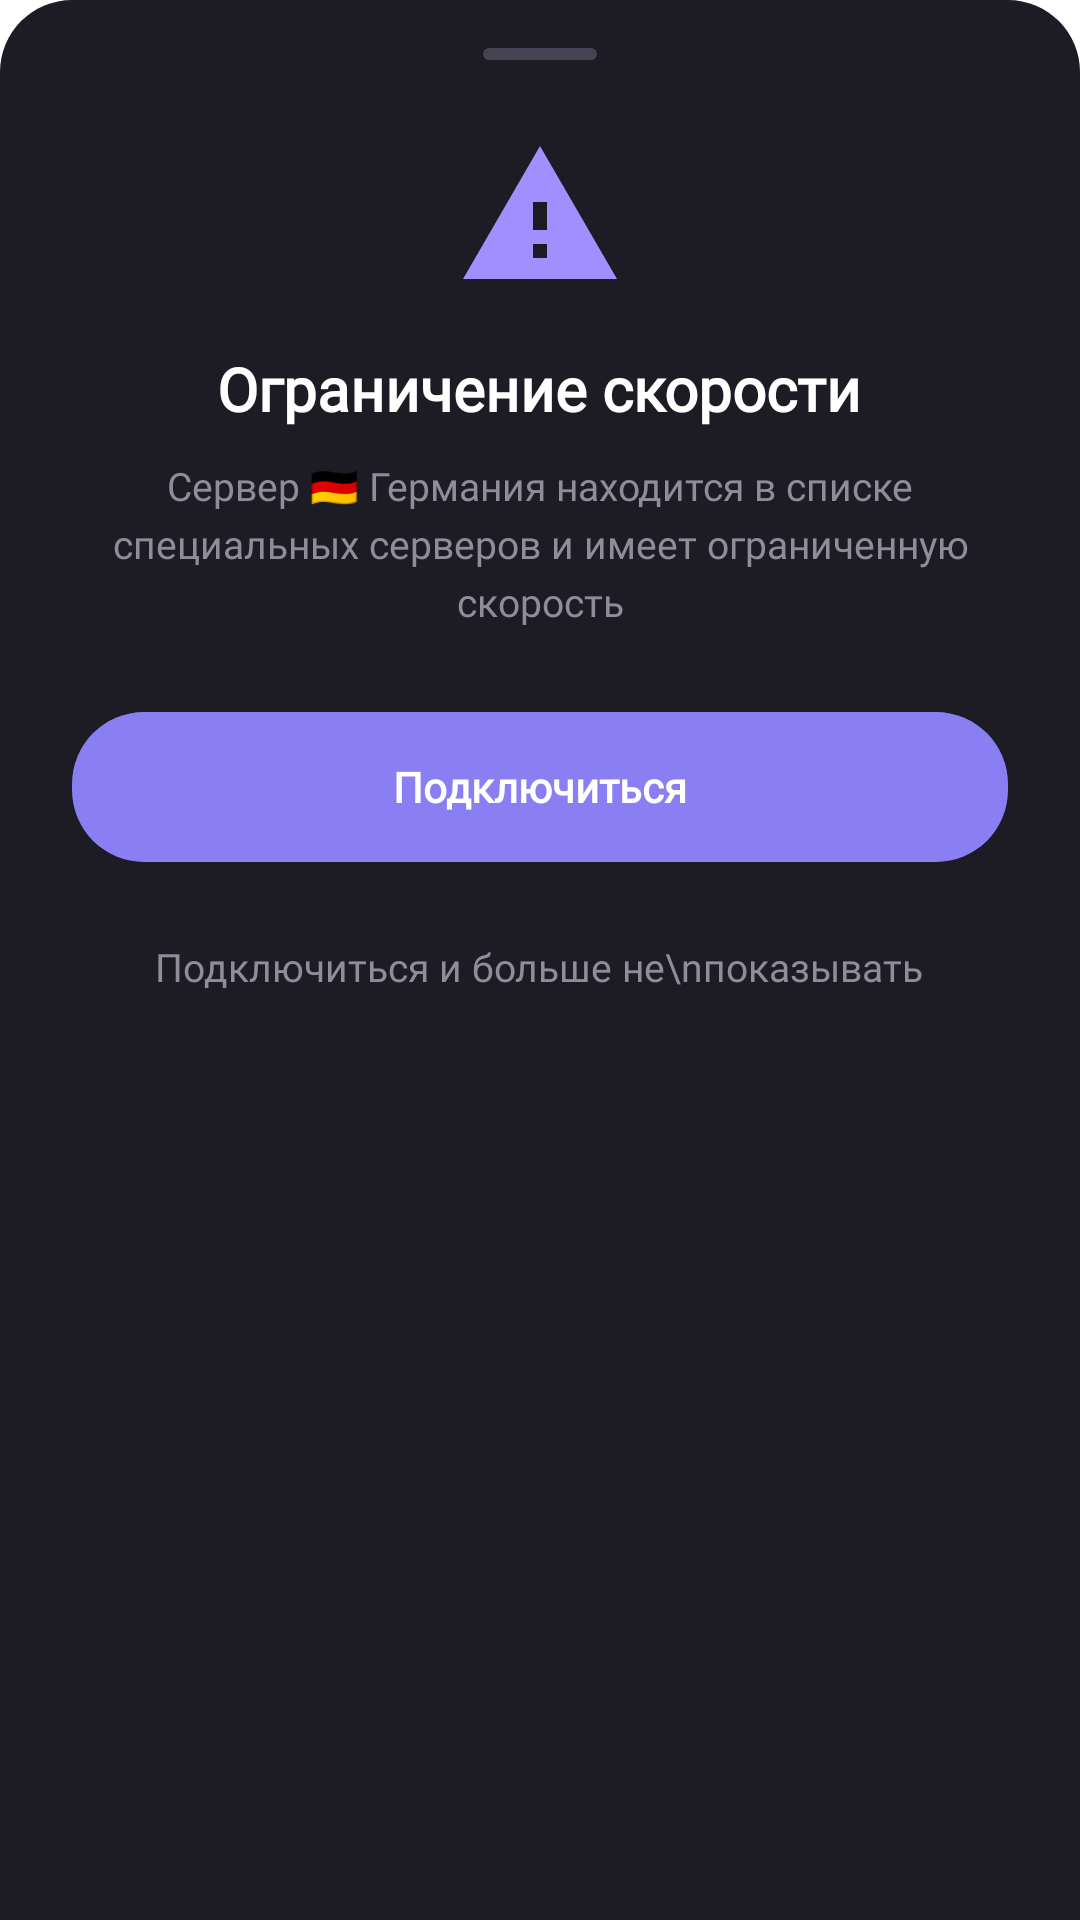

Point at icon controls on the screen. Image size 1080w x 1920h, points as [x,y].
Speed limit warning: [540,212]
